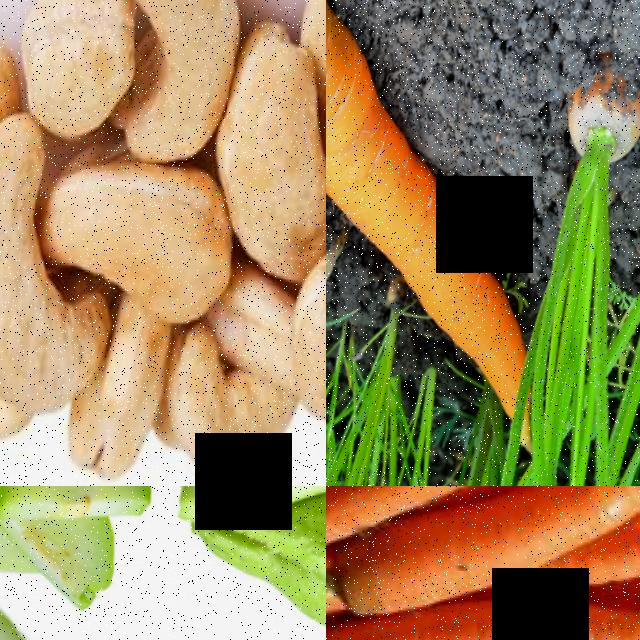carrot: (326, 0, 498, 269), (362, 519, 637, 640), (551, 63, 640, 269), (326, 488, 441, 596)
cashew: (79, 134, 246, 312), (0, 93, 72, 425), (134, 0, 298, 141), (8, 0, 174, 115), (241, 38, 326, 256), (170, 366, 316, 477), (94, 287, 185, 441)
chayote: (209, 486, 326, 640)
